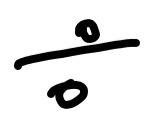div: (15, 19, 143, 107)
